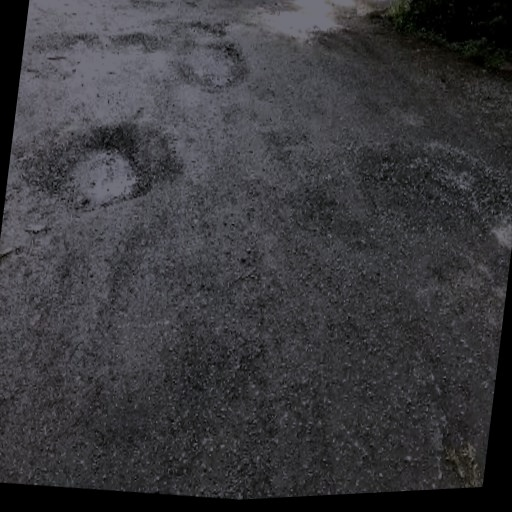pothole: (344, 124, 512, 250), (34, 109, 182, 227), (166, 29, 256, 95), (26, 22, 104, 89), (110, 25, 166, 60)
